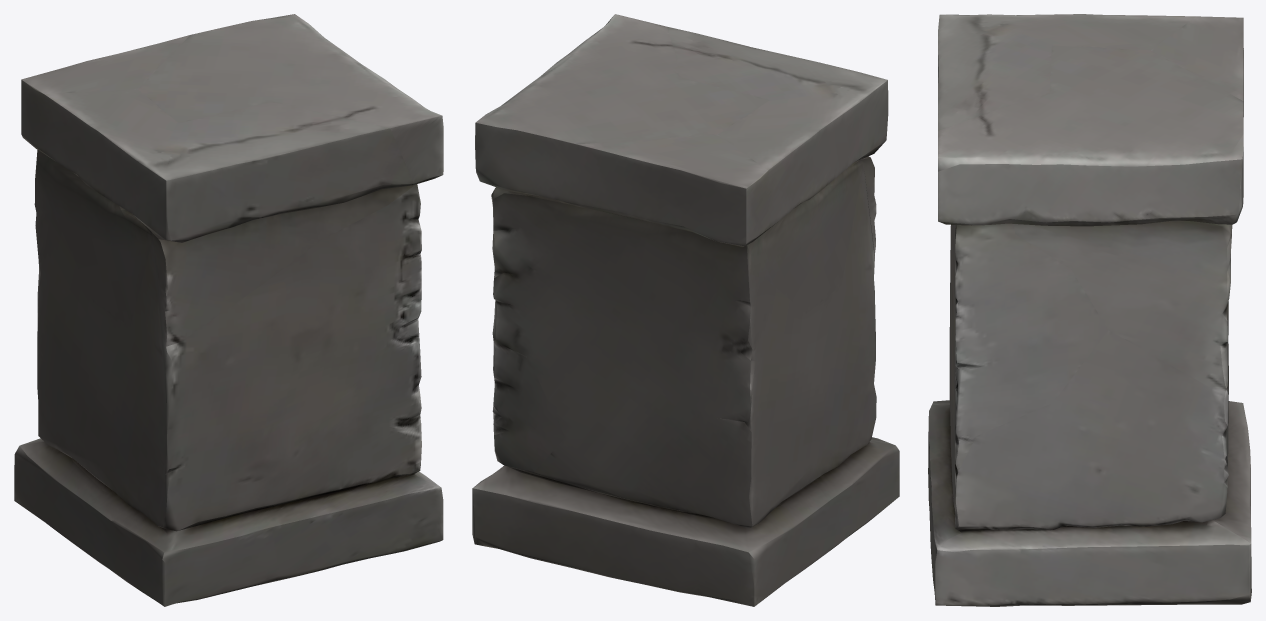
The model's file is buildColumn.glb.
3 renders of one model, left to right at view 1: azimuth 30°, elevation 25°; view 2: azimuth 150°, elevation 25°; view 3: azimuth 270°, elevation 25°, orthographic. The views are drawn at different scales.
Parts seen in each view (by area): view 1: model; view 2: model; view 3: model.
Part boxes in pixels (bbox=[...]): model: bbox=[14, 14, 443, 606]; model: bbox=[472, 14, 899, 606]; model: bbox=[928, 14, 1251, 606].
Bounding box in the file's own units: 1.32 × 1.9 × 1.22.
1 material, 1 textured.
